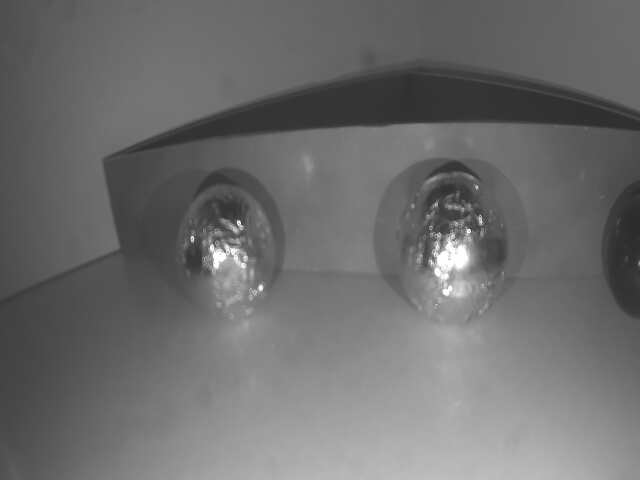Dead: (608, 196, 640, 313)
Live: (401, 172, 510, 321), (173, 189, 280, 321)
Red: (101, 124, 640, 282)
